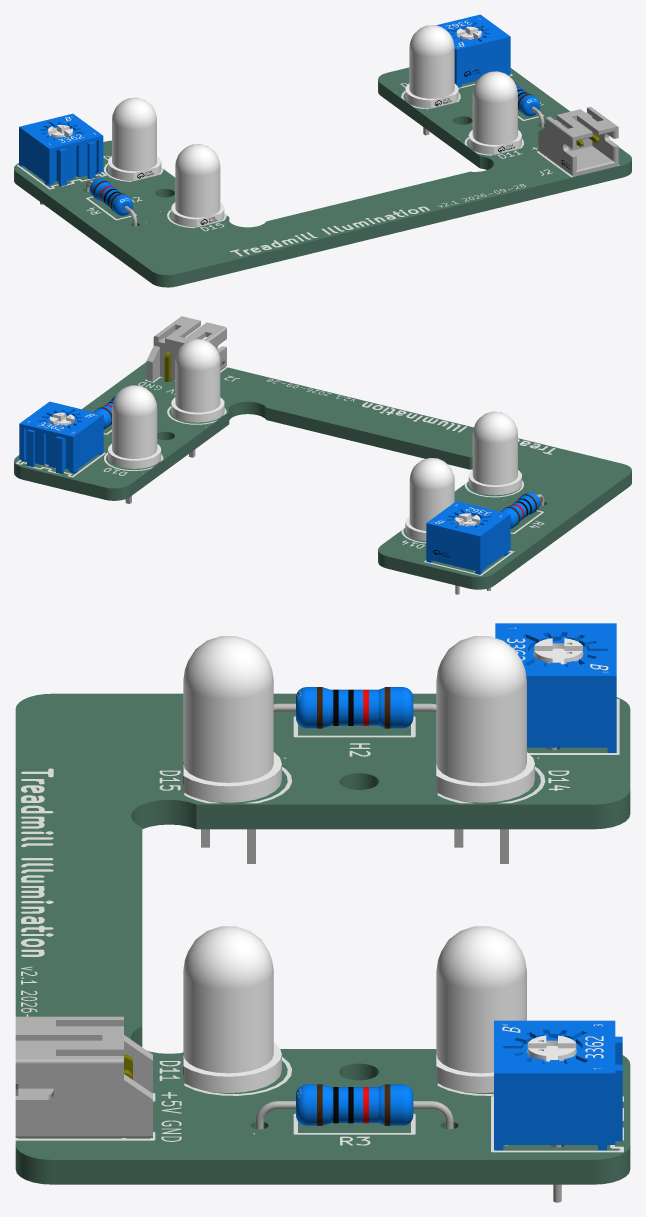
Rendered from Treadmill-Illumination-v2-tht-v2.1.glb.
3 views of the same model, one above another, from view 1: azimuth 30°, elevation 25°; view 2: azimuth 150°, elevation 25°; view 3: azimuth 270°, elevation 25° (orthographic). The views are drawn at different scales.
Visible parts, largest first — view 1: =>[0:1:1:12], =>[0:1:1:3] (×4), =>[0:1:1:7] (×2), =>[0:1:1:5], =>[0:1:1:10], =>[0:1:1:9] (×2); view 2: =>[0:1:1:12], =>[0:1:1:3] (×4), =>[0:1:1:7] (×2), =>[0:1:1:5], =>[0:1:1:10], =>[0:1:1:9]; view 3: =>[0:1:1:12], =>[0:1:1:3] (×4), =>[0:1:1:7] (×2), =>[0:1:1:5], =>[0:1:1:9] (×2), =>[0:1:1:10].
Boxes of the visible parts, <box> form: =>[0:1:1:12]: <box>14,67,631,287</box>; =>[0:1:1:3] (×4): <box>108,25,521,227</box>; =>[0:1:1:7] (×2): <box>19,14,510,204</box>; =>[0:1:1:5]: <box>538,106,618,176</box>; =>[0:1:1:10]: <box>17,74,619,256</box>; =>[0:1:1:9] (×2): <box>85,82,544,226</box>; =>[0:1:1:12]: <box>14,362,631,589</box>; =>[0:1:1:3] (×4): <box>108,339,521,541</box>; =>[0:1:1:7] (×2): <box>19,401,510,594</box>; =>[0:1:1:5]: <box>146,316,226,381</box>; =>[0:1:1:10]: <box>15,366,555,575</box>; =>[0:1:1:9]: <box>500,492,544,528</box>; =>[0:1:1:12]: <box>15,693,630,1184</box>; =>[0:1:1:3] (×4): <box>183,636,534,1092</box>; =>[0:1:1:7] (×2): <box>494,623,622,1202</box>; =>[0:1:1:5]: <box>15,1016,152,1137</box>; =>[0:1:1:9] (×2): <box>255,687,453,1129</box>; =>[0:1:1:10]: <box>15,698,623,1152</box>.
Size of the model in its own units: 0.061 by 0.0136 by 0.034.
